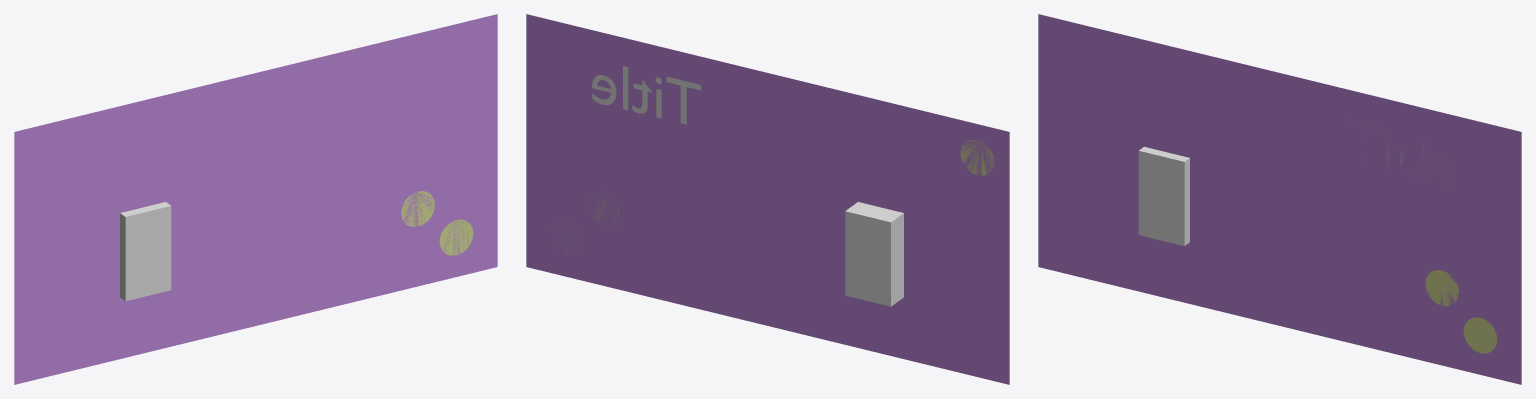
Rendered from prototype.fbx.
3 views of the same model, side by side, from view 1: azimuth 30°, elevation 25°; view 2: azimuth 150°, elevation 25°; view 3: azimuth 330°, elevation 25° (orthographic).
Visible parts, largest first — view 1: Background, Cube, Circle, Circle.001; view 2: Background, Cube, Text, Circle.002; view 3: Background, Cube, Circle, Circle.001.
Boxes of the visible parts, left/top/right/bottom form: Background: left=14, top=14, right=497, bottom=384; Cube: left=120, top=202, right=171, bottom=301; Circle: left=439, top=219, right=473, bottom=255; Circle.001: left=401, top=191, right=434, bottom=226; Background: left=526, top=14, right=1009, bottom=384; Cube: left=845, top=202, right=903, bottom=306; Text: left=592, top=66, right=700, bottom=124; Circle.002: left=960, top=139, right=994, bottom=175; Background: left=1038, top=14, right=1521, bottom=384; Cube: left=1138, top=147, right=1189, bottom=245; Circle: left=1463, top=317, right=1497, bottom=353; Circle.001: left=1425, top=270, right=1458, bottom=306.
Size of the model in its own units: 8 by 0.5233 by 4.
